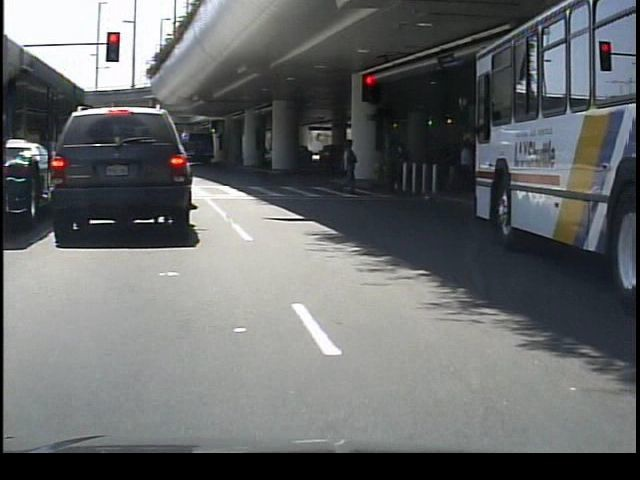person: (333, 136, 364, 198), (451, 137, 481, 196), (381, 138, 407, 193)
